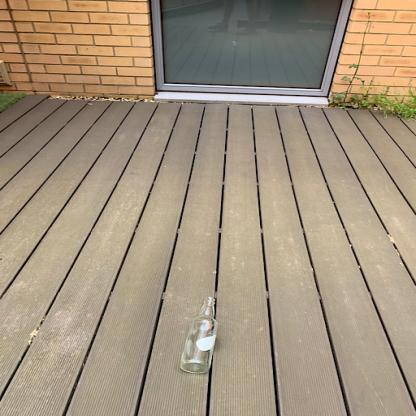trash: (174, 296, 221, 378)
